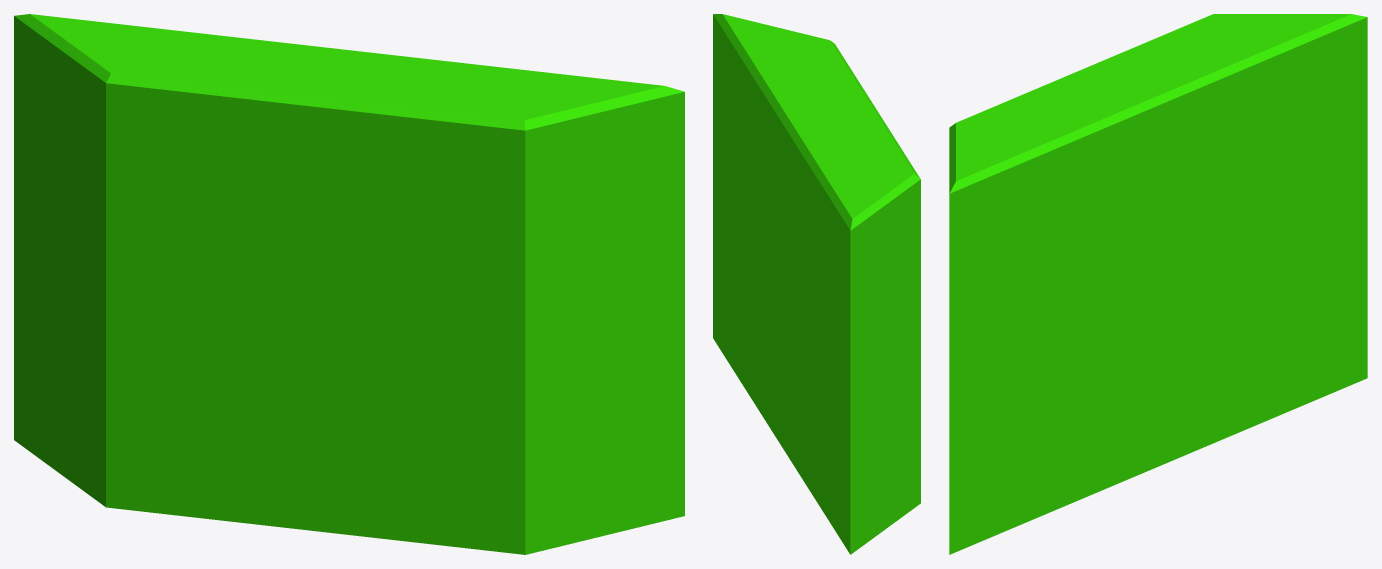
The model's file is diagonal_3x3.fbx.
3 renders of one model, left to right at view 1: azimuth 30°, elevation 25°; view 2: azimuth 150°, elevation 25°; view 3: azimuth 270°, elevation 25°, orthographic. The views are drawn at different scales.
Parts seen in each view (by area): view 1: diagonal_3x3; view 2: diagonal_3x3; view 3: diagonal_3x3.
Boxes of the visible parts, x1,y1,x2,y2 form: diagonal_3x3: (14, 14, 684, 554); diagonal_3x3: (713, 14, 920, 554); diagonal_3x3: (949, 14, 1367, 554).
Bounding box in the file's own units: 320 × 310 × 320.
